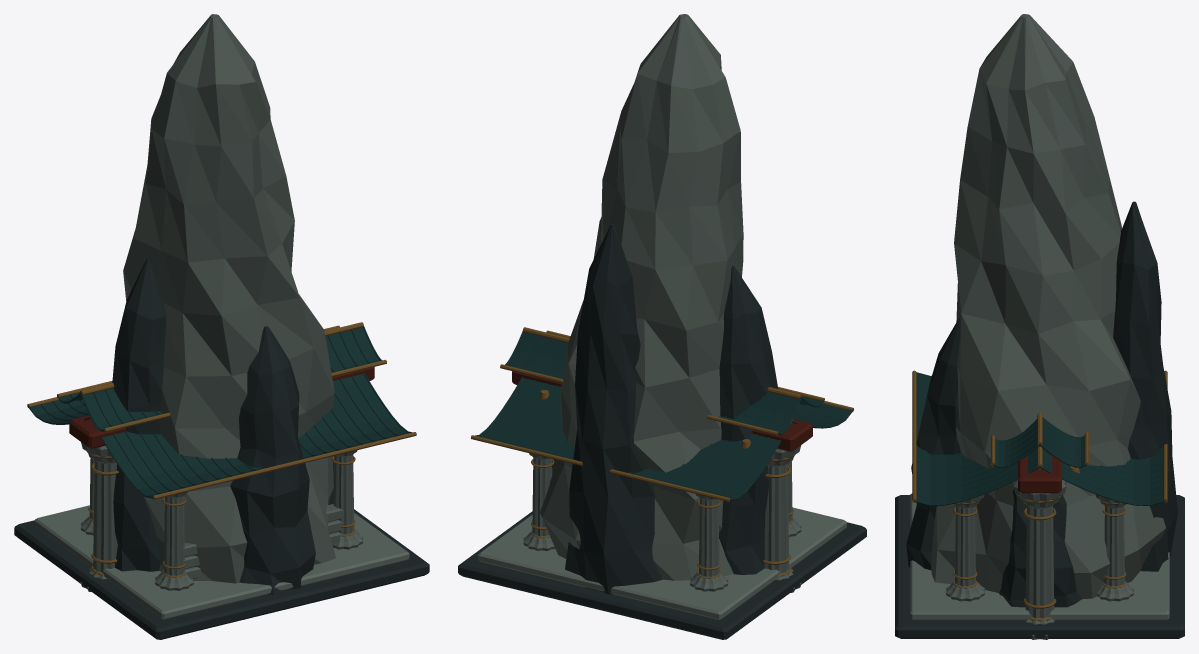
The model's file is spirit_ruins.glb.
3 views of the same model, side by side, from view 1: azimuth 30°, elevation 25°; view 2: azimuth 150°, elevation 25°; view 3: azimuth 270°, elevation 25° (orthographic).
Visible parts, largest first — view 1: Rock_stone, Rock_dark, Landmark_roof, Landmark_dark, Landmark_stone_light, Landmark_stone, Gate_roof, Gate_stone, Landmark_trim, Gate_trim, Gate_wood; view 2: Rock_stone, Rock_dark, Landmark_roof, Landmark_stone_light, Landmark_dark, Landmark_stone, Gate_roof, Gate_stone, Gate_trim, Landmark_trim, Gate_wood; view 3: Rock_stone, Rock_dark, Landmark_dark, Landmark_roof, Landmark_stone_light, Landmark_stone, Gate_stone, Gate_roof, Landmark_trim, Gate_wood, Gate_trim.
Boxes of the visible parts, x1=… form: Rock_stone: x1=123, y1=14, x2=335, y2=583; Rock_dark: x1=112, y1=258, x2=334, y2=595; Landmark_roof: x1=27, y1=372, x2=411, y2=498; Landmark_dark: x1=14, y1=509, x2=429, y2=639; Landmark_stone_light: x1=34, y1=505, x2=409, y2=619; Landmark_stone: x1=80, y1=450, x2=363, y2=590; Gate_roof: x1=57, y1=326, x2=382, y2=431; Gate_stone: x1=80, y1=442, x2=117, y2=591; Landmark_trim: x1=27, y1=397, x2=416, y2=577; Gate_trim: x1=57, y1=322, x2=386, y2=575; Gate_wood: x1=69, y1=367, x2=374, y2=448; Rock_stone: x1=540, y1=14, x2=743, y2=580; Rock_dark: x1=565, y1=223, x2=778, y2=594; Landmark_roof: x1=475, y1=377, x2=853, y2=500; Landmark_stone_light: x1=478, y1=507, x2=846, y2=619; Landmark_dark: x1=458, y1=511, x2=866, y2=639; Landmark_stone: x1=523, y1=453, x2=801, y2=591; Gate_roof: x1=505, y1=331, x2=824, y2=434; Gate_stone: x1=764, y1=445, x2=801, y2=592; Gate_trim: x1=500, y1=327, x2=824, y2=576; Landmark_trim: x1=471, y1=401, x2=853, y2=578; Gate_wood: x1=512, y1=371, x2=812, y2=451; Rock_stone: x1=931, y1=14, x2=1165, y2=599; Rock_dark: x1=906, y1=201, x2=1177, y2=607; Landmark_dark: x1=895, y1=495, x2=1184, y2=638; Landmark_roof: x1=914, y1=372, x2=1165, y2=505; Landmark_stone_light: x1=910, y1=493, x2=1169, y2=620; Landmark_stone: x1=945, y1=494, x2=1134, y2=601; Gate_stone: x1=1013, y1=479, x2=1066, y2=639; Gate_roof: x1=993, y1=417, x2=1086, y2=467; Landmark_trim: x1=912, y1=370, x2=1167, y2=588; Gate_wood: x1=1018, y1=456, x2=1061, y2=493; Gate_trim: x1=991, y1=413, x2=1088, y2=621.
Bounding box in the file's own units: 12 × 22.6 × 10.5.
